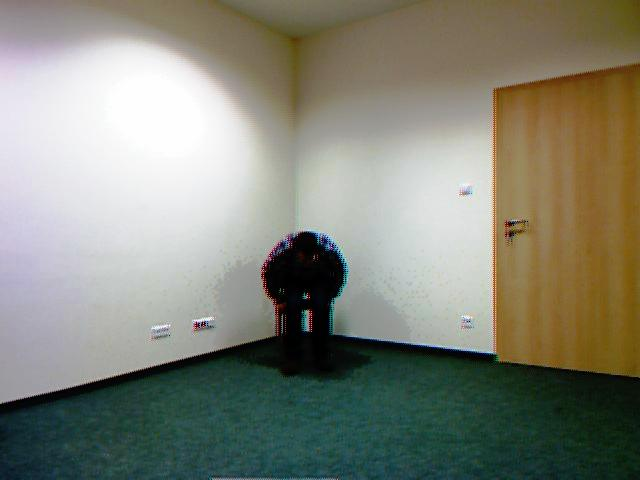bending: (254, 211, 359, 381)
